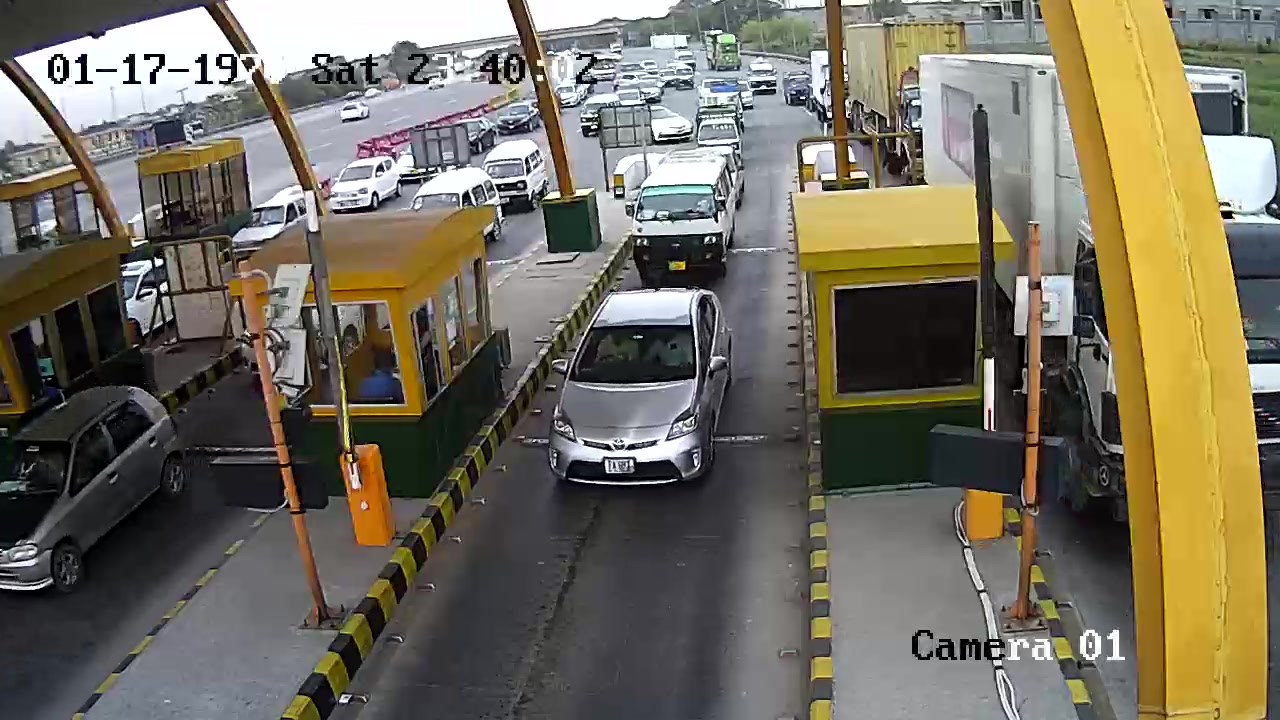F1: (531, 282, 771, 508)
F3: (625, 148, 748, 291)
